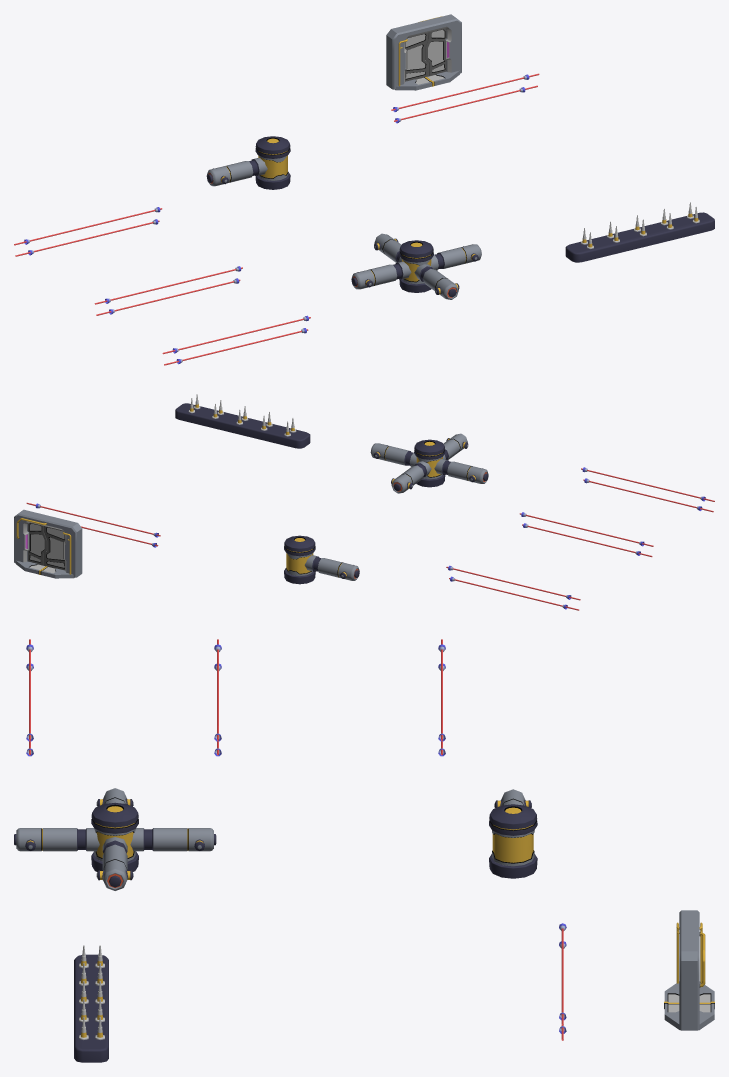
The picture shows the model from 3 angles, top to bottom: view 1: azimuth 30°, elevation 25°; view 2: azimuth 150°, elevation 25°; view 3: azimuth 270°, elevation 25°; orthographic projection. The views are drawn at different scales.
Parts seen in each view (by area): view 1: Base (×2), pCylinder14 (×4), pCylinder13 (×2), Right, Left, Base5; view 2: Base (×2), pCylinder14 (×5), pCylinder13 (×2), Right, Left, Base5; view 3: Base (×2), pCylinder13 (×2), pCylinder14 (×3), Base5.
Part boxes in pixels (x1,y1,x2,y2): Base (×2): (386,14,714,262); pCylinder14 (×4): (206,158,481,299); pCylinder13 (×2): (255,136,433,292); Right: (405,32,429,81); Left: (425,28,446,76); Base5: (395,70,459,90); Base (×2): (14,403,310,577); pCylinder14 (×5): (304,433,488,580); pCylinder13 (×2): (284,439,445,584); Right: (43,526,65,570); Left: (27,522,47,565); Base5: (15,560,74,578); Base (×2): (74,910,699,1062); pCylinder13 (×2): (91,802,537,878); pCylinder14 (×3): (14,828,216,890); Base5: (664,981,714,1030).
Bounding box in the file's own units: 447 × 45.15 × 343.
